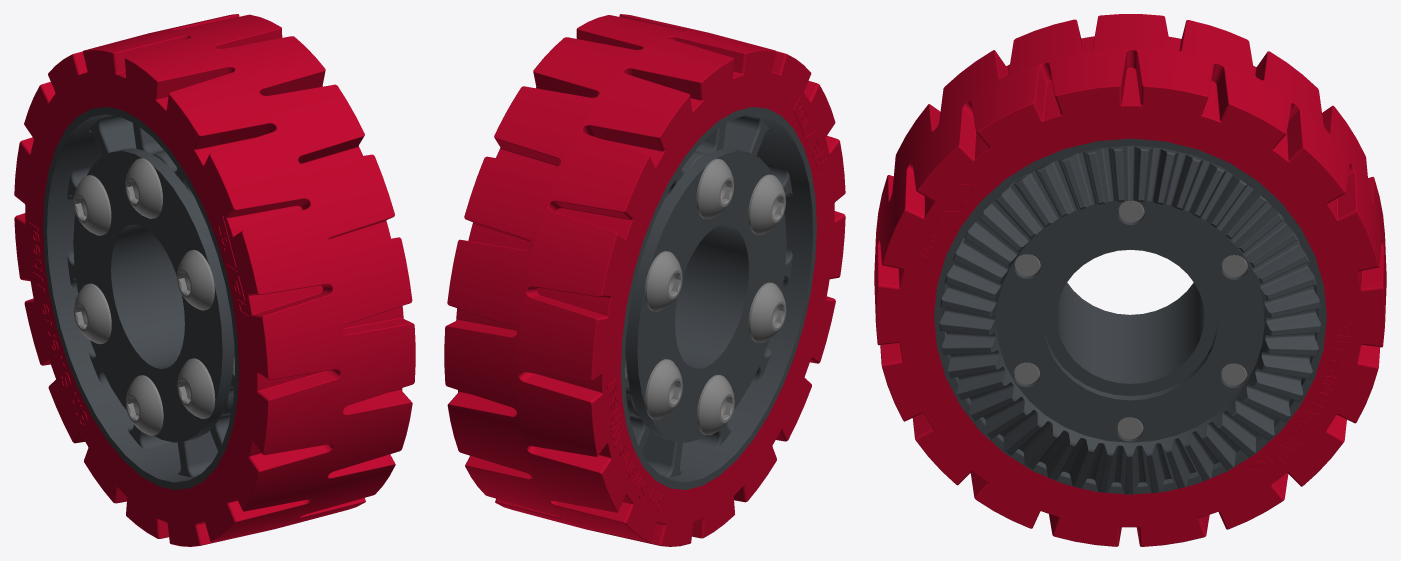
The picture shows the model from 3 angles, left to right: view 1: azimuth 30°, elevation 25°; view 2: azimuth 150°, elevation 25°; view 3: azimuth 270°, elevation 25°; orthographic projection.
Visible parts, largest first — view 1: REV-21-3004-P01, REV-21-3005-P15, REV-20-3003, #10 Button Head Cap Screws_1.000 Long (×6); view 2: REV-21-3004-P01, REV-21-3005-P15, REV-20-3003, #10 Button Head Cap Screws_1.000 Long (×6); view 3: REV-21-3004-P01, REV-21-3005-P07, REV-20-3003, REV-21-3005-P15.
Part boxes in pixels (x1,y1,x2,y2): REV-21-3004-P01: [14, 14, 415, 546]; REV-21-3005-P15: [73, 148, 234, 442]; REV-20-3003: [43, 107, 239, 489]; #10 Button Head Cap Screws_1.000 Long (×6): [73, 158, 215, 435]; REV-21-3004-P01: [444, 14, 845, 546]; REV-21-3005-P15: [625, 148, 786, 442]; REV-20-3003: [620, 107, 816, 489]; #10 Button Head Cap Screws_1.000 Long (×6): [644, 158, 786, 435]; REV-21-3004-P01: [874, 14, 1386, 546]; REV-21-3005-P07: [939, 145, 1321, 494]; REV-20-3003: [934, 138, 1326, 494]; REV-21-3005-P15: [1059, 282, 1201, 347].
Bounding box in the file's own units: 0.0309 × 0.0762 × 0.0762.
